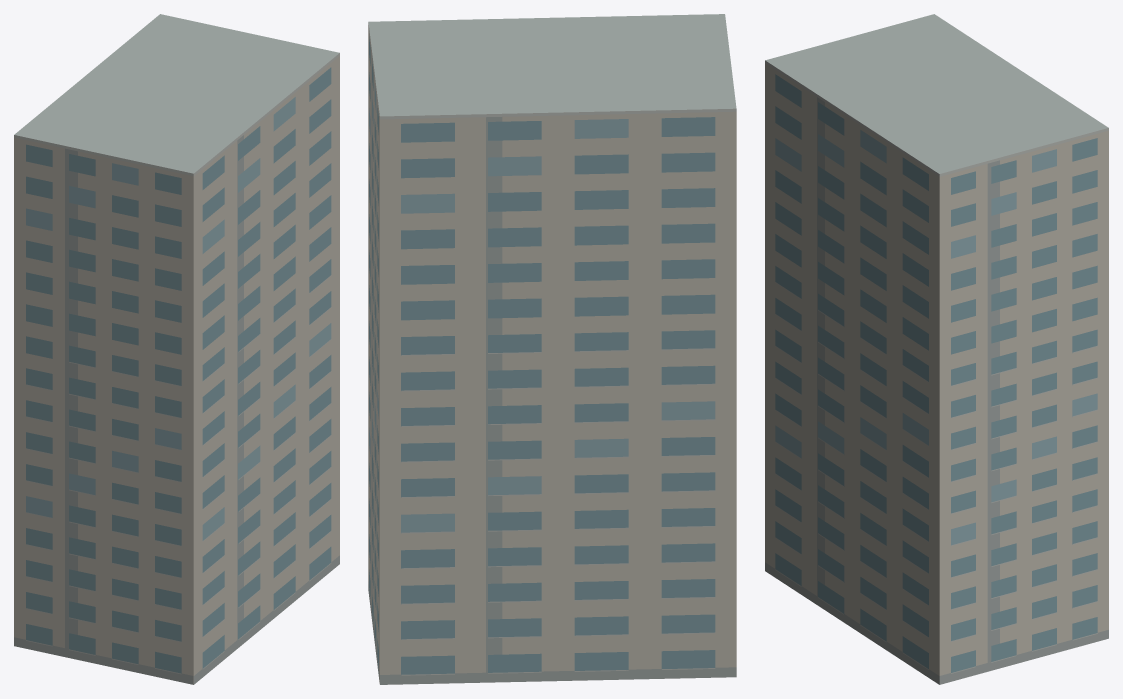
The model's file is residential-01ac573d-9b29-49d5-9979-df624824795c.glb.
The picture shows the model from 3 angles, left to right: view 1: azimuth 30°, elevation 25°; view 2: azimuth 150°, elevation 25°; view 3: azimuth 270°, elevation 25°; orthographic projection. The views are drawn at different scales.
Visible parts, largest first — view 1: residential-01ac573d-9b29-49d5-9979-df624824795c.tmp; view 2: residential-01ac573d-9b29-49d5-9979-df624824795c.tmp; view 3: residential-01ac573d-9b29-49d5-9979-df624824795c.tmp.
Part boxes in pixels (x1=…): residential-01ac573d-9b29-49d5-9979-df624824795c.tmp: x1=14, y1=14, x2=339, y2=684; residential-01ac573d-9b29-49d5-9979-df624824795c.tmp: x1=368, y1=14, x2=736, y2=684; residential-01ac573d-9b29-49d5-9979-df624824795c.tmp: x1=765, y1=14, x2=1108, y2=684.
Bounding box in the file's own units: 30.94 × 46 × 28.06.
